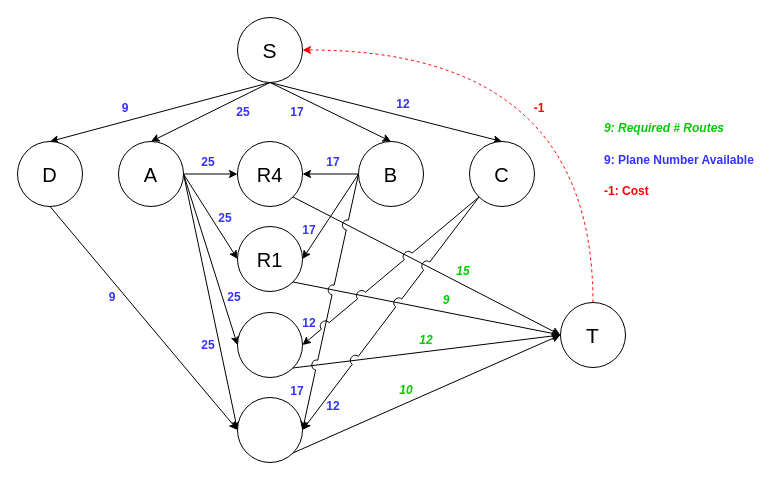
Some shapes in this 779 by 480 pixel diagram are drawn without their labels. Each missing label, with the box of its shape:
R2: (236, 312, 302, 378)
R3: (236, 396, 302, 462)
